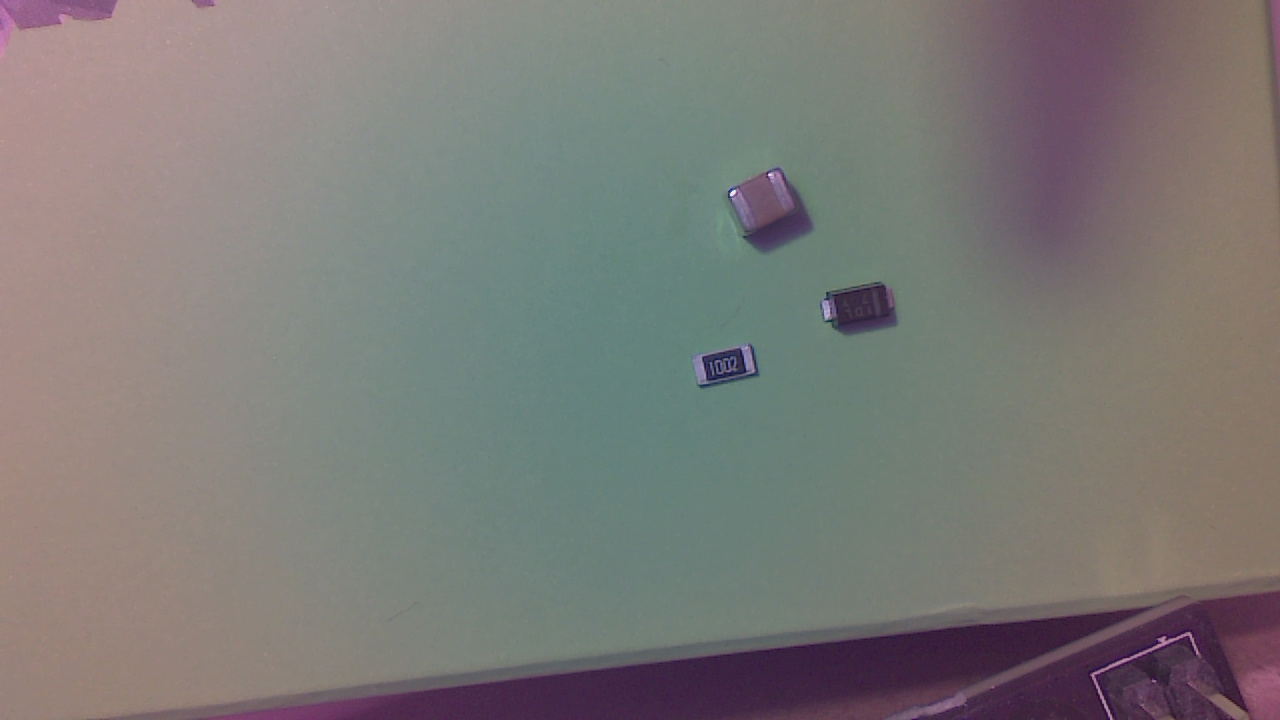Condensator: (731, 173, 803, 246)
Diode: (822, 286, 911, 334)
Resistor: (695, 349, 763, 394)
